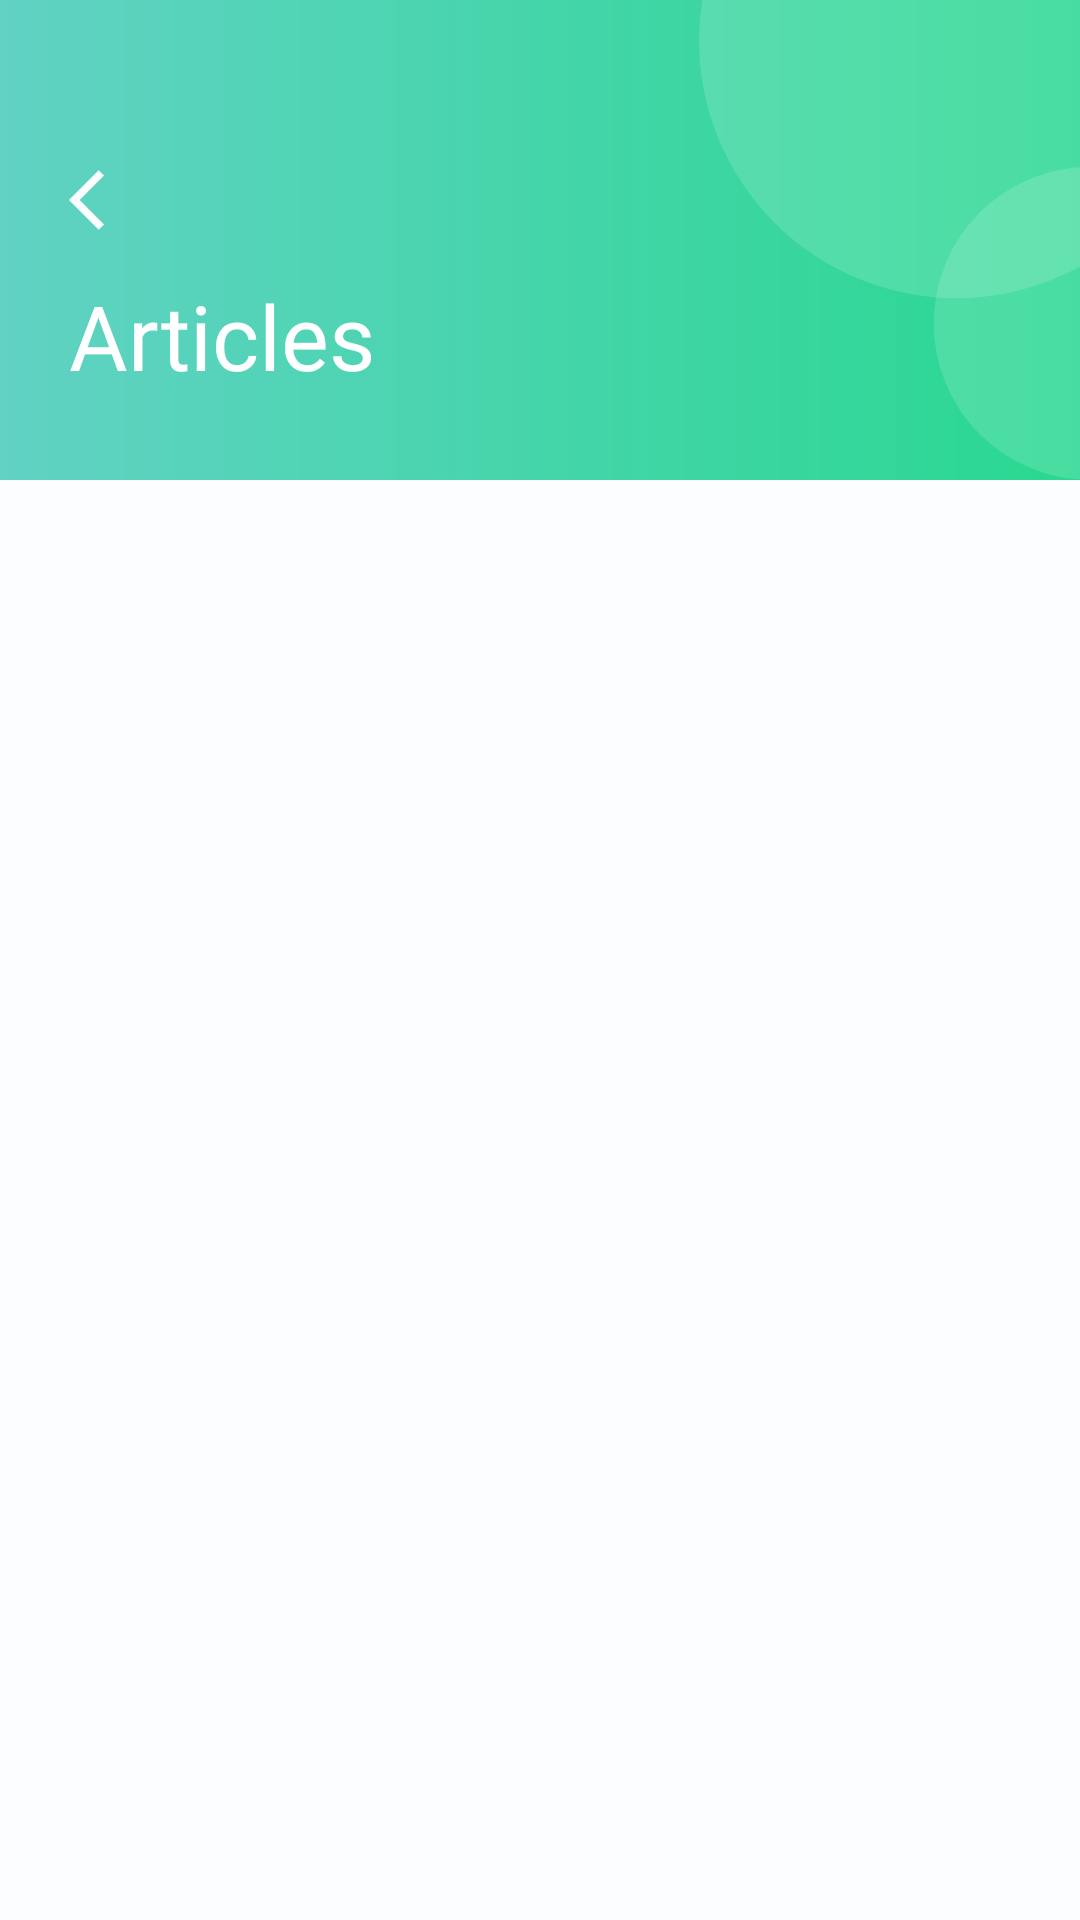

Locate icon controls on the screen. Image size 1080w x 1920h, boxes as Rect(x1, y1, x2, y2).
arrow: Rect(69, 170, 104, 230)
